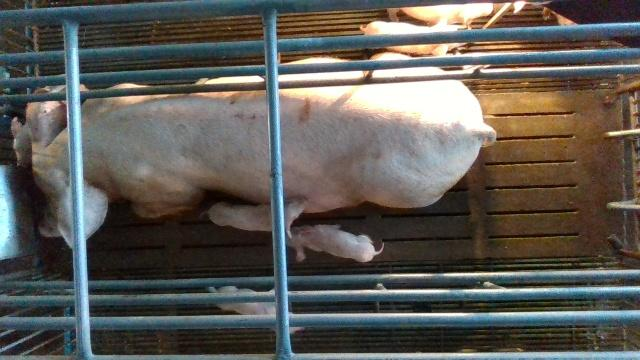piglet: (205, 285, 309, 334), (7, 65, 55, 168), (362, 19, 472, 54), (289, 224, 385, 261), (203, 199, 310, 232), (386, 0, 495, 32)
sow-sit: (30, 51, 499, 252)
